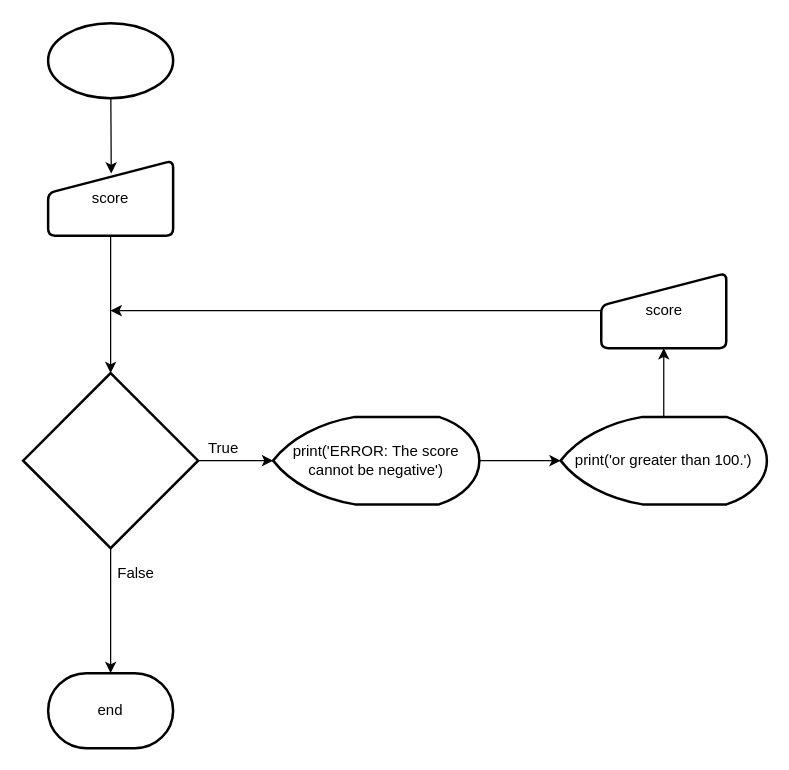
Image size: 789x770. Some labels were removed from this diagram. The centre of each missing label's shape, as x and y in pixels:
score < 0 or score > 100: (110,460)
start: (110,60)
